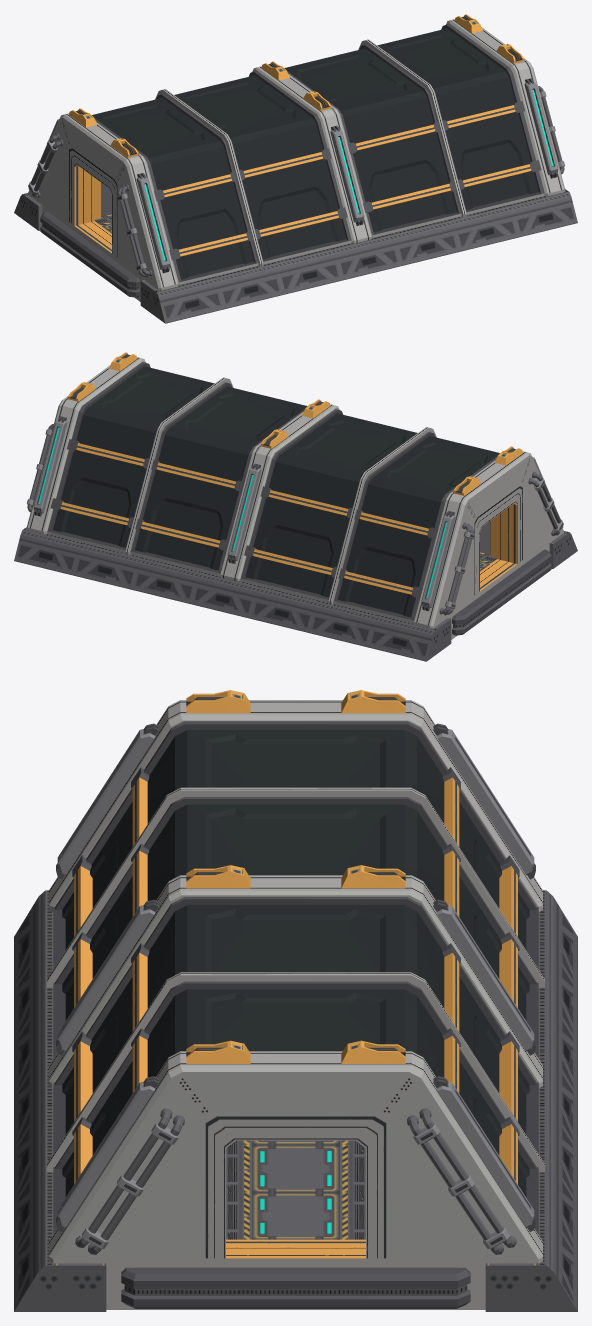
Rendered from worlds_SM_Bld_Pod_Research_08.gltf.
3 renders of one model, top to bottom at view 1: azimuth 30°, elevation 25°; view 2: azimuth 150°, elevation 25°; view 3: azimuth 270°, elevation 25°, orthographic. The views are drawn at different scales.
Parts seen in each view (by area): view 1: SM_Bld_Pod_Research_08; view 2: SM_Bld_Pod_Research_08; view 3: SM_Bld_Pod_Research_08.
Boxes of the visible parts, box(x1,y1,x2,y2) form: SM_Bld_Pod_Research_08: box(14, 14, 577, 323); SM_Bld_Pod_Research_08: box(14, 352, 577, 661); SM_Bld_Pod_Research_08: box(14, 690, 577, 1311).
Bounding box in the file's own units: 20.93 × 6.54 × 12.89.
Materials: 1 (1 with a texture image).
